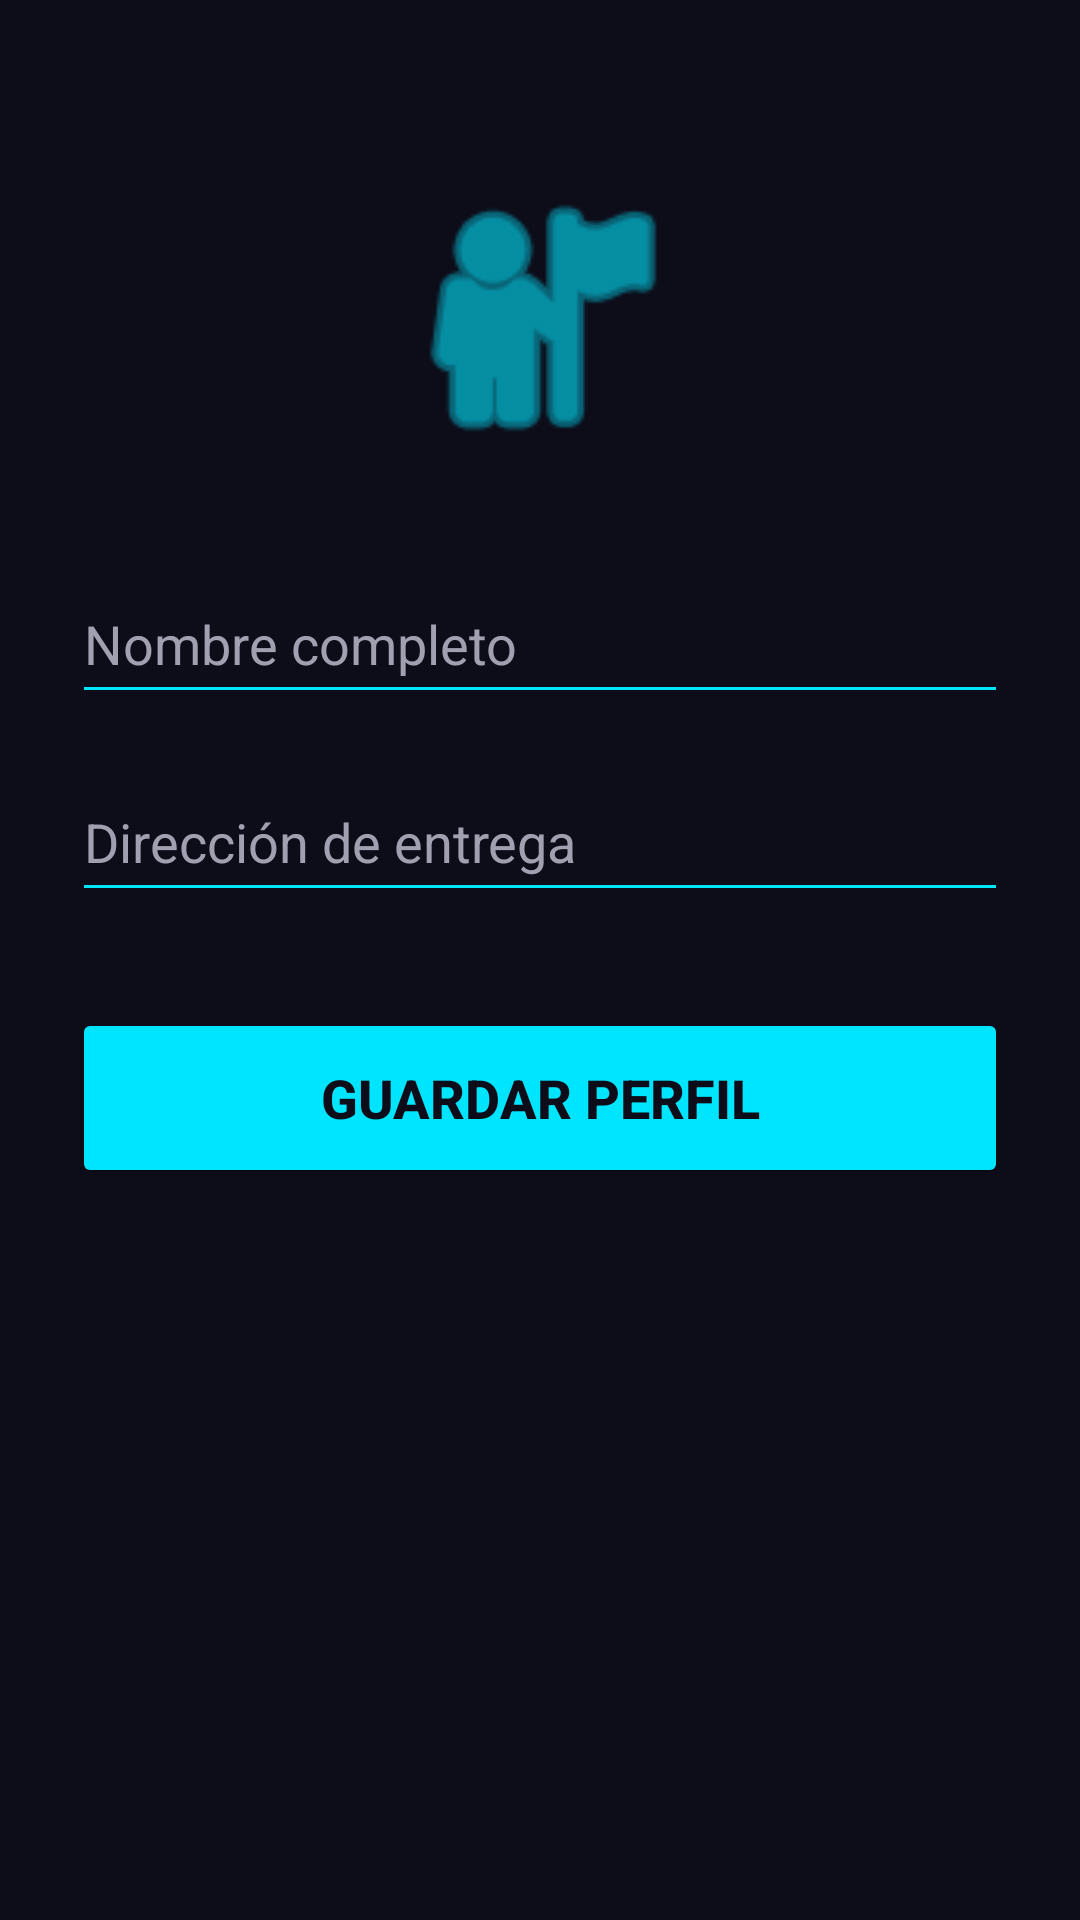

Where icons sit on this 1080w x 1920h app screen, as {"x1": x1, "y1": y1, "x2": x2, "y2": y2}:
myplaces: {"x1": 430, "y1": 206, "x2": 656, "y2": 430}
